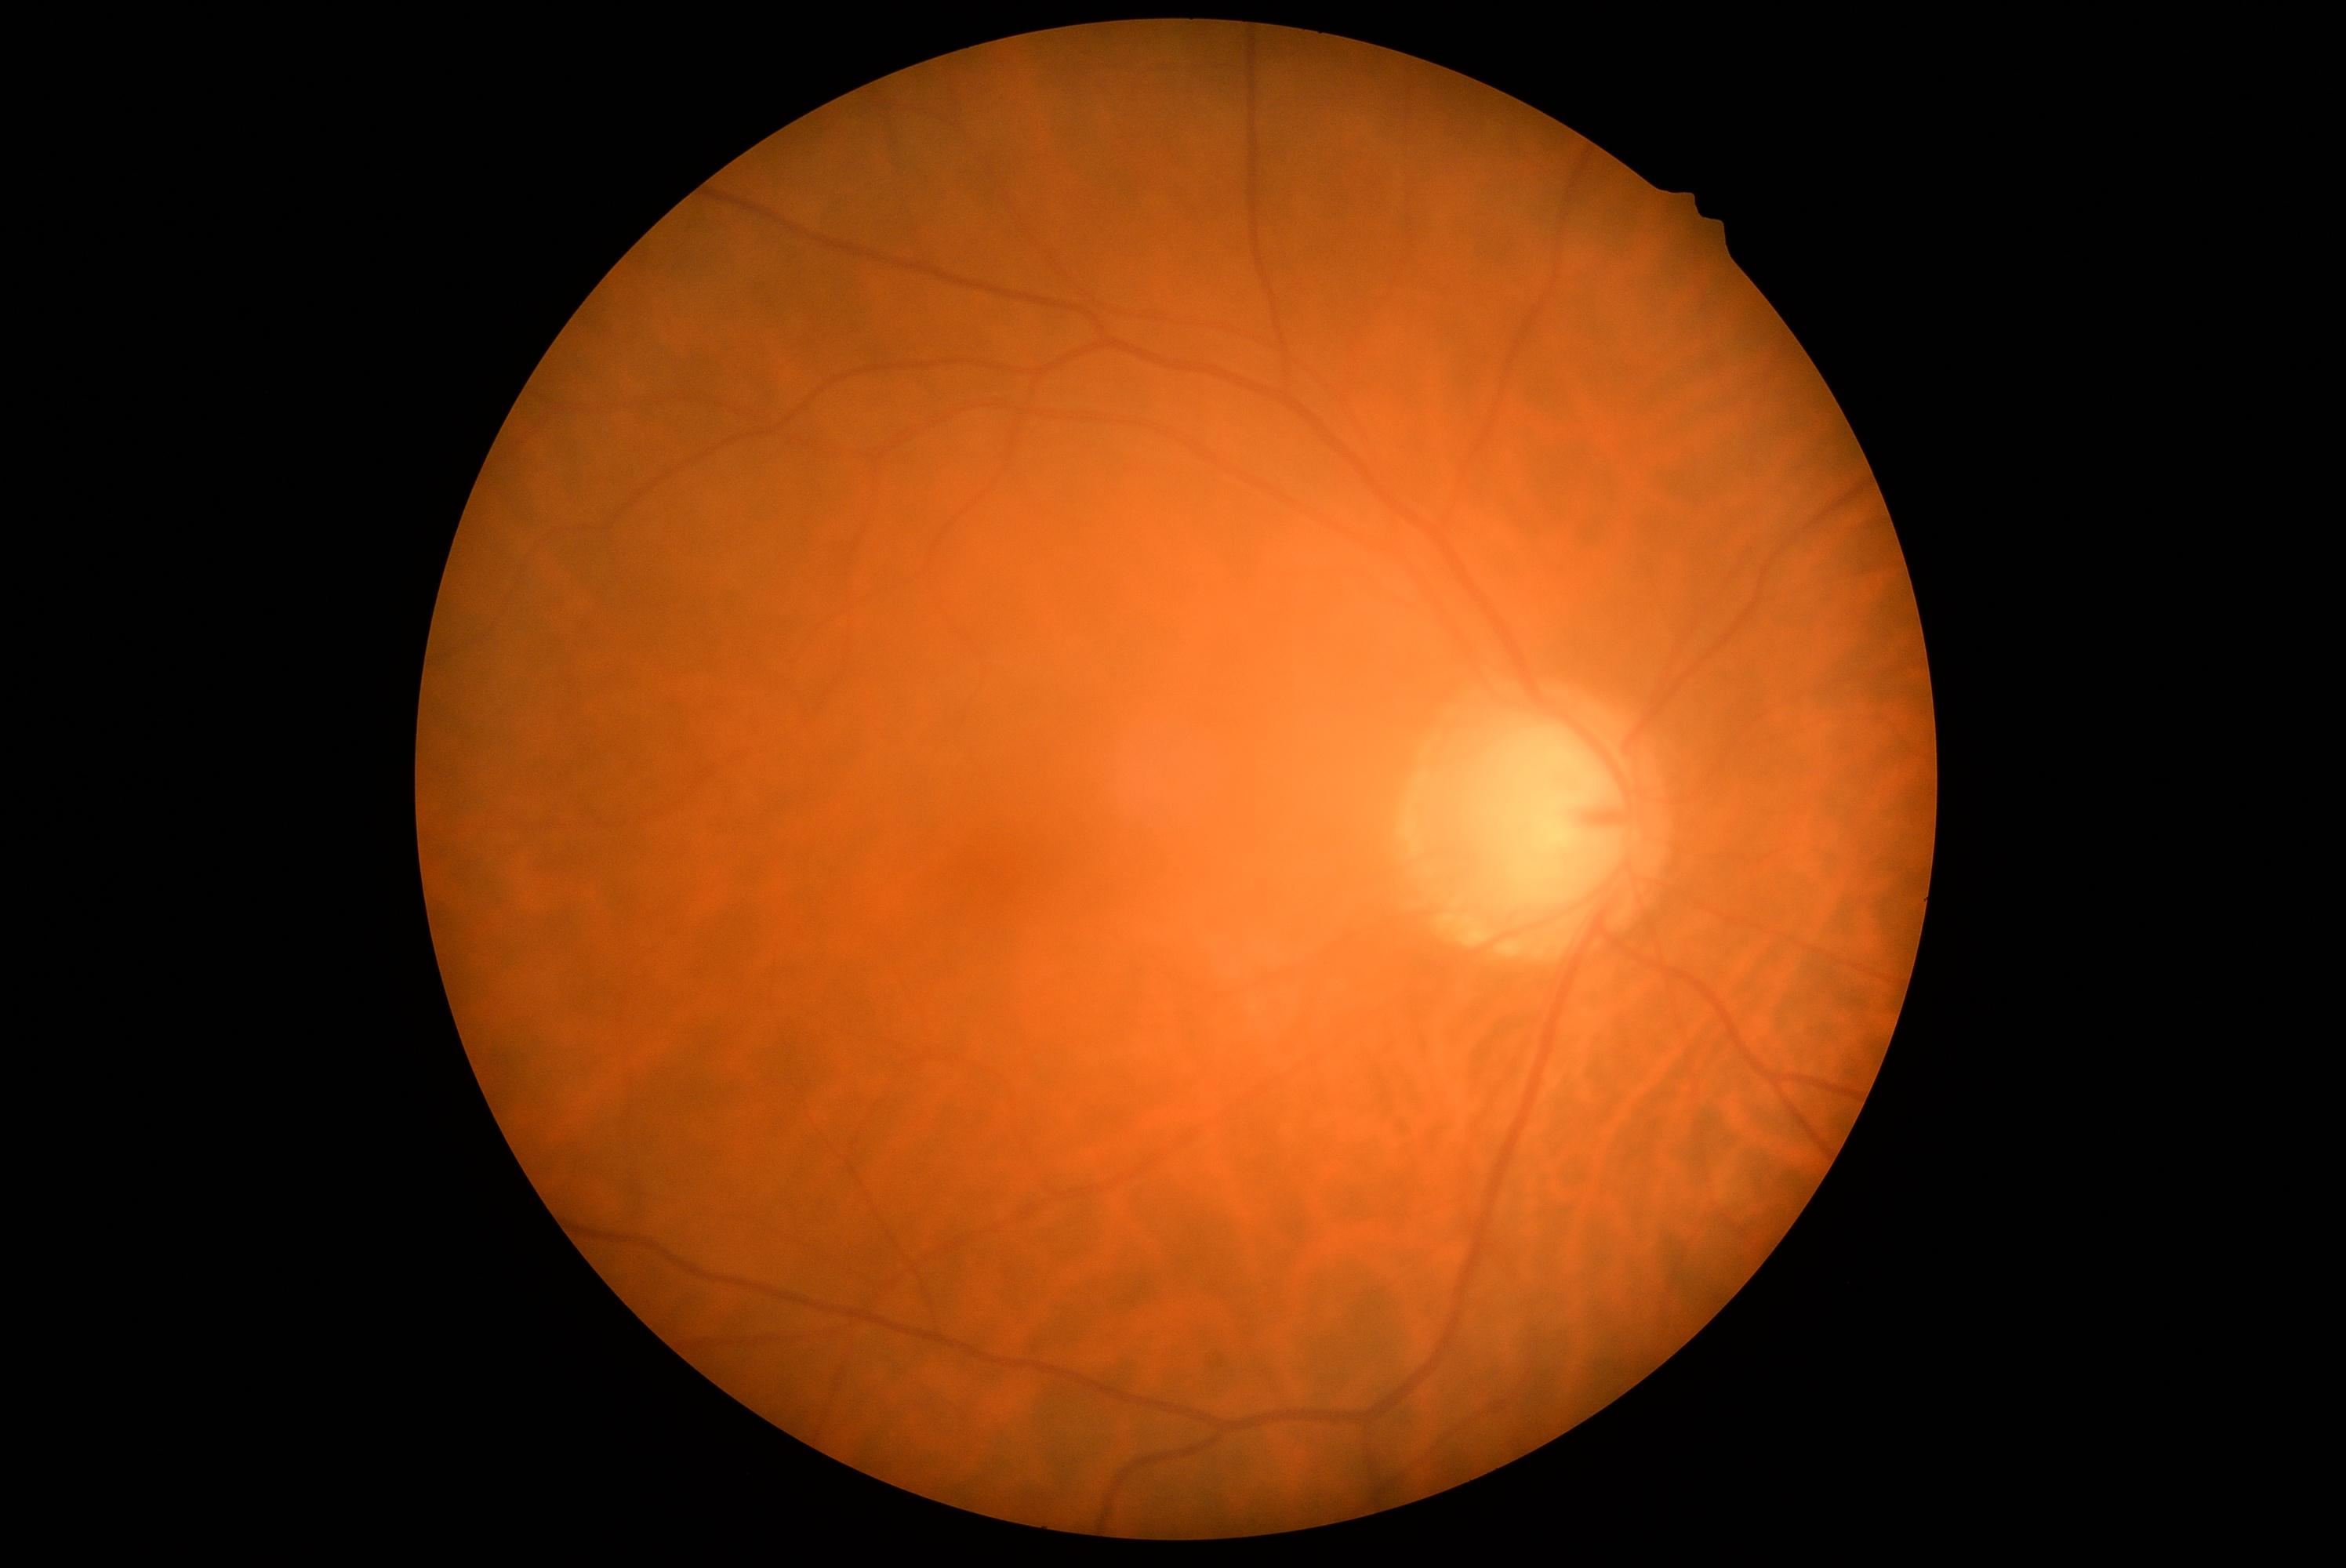Fovea: (920, 789, 1069, 936)
